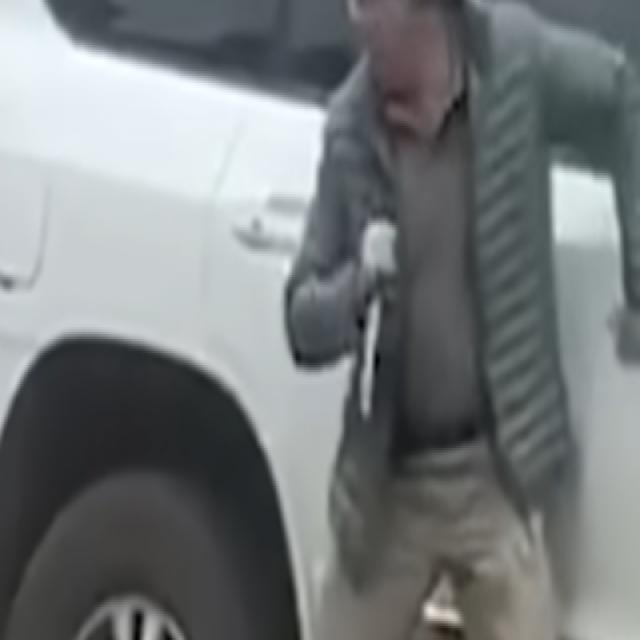Fknife: (356, 258, 387, 434)
